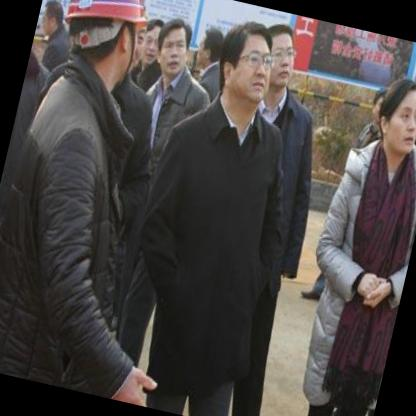head: (212, 18, 283, 113), (371, 72, 416, 162), (255, 23, 305, 102), (149, 10, 196, 82), (190, 21, 230, 76), (33, 0, 71, 47), (138, 13, 168, 68), (407, 73, 416, 144)
helmet: (52, 0, 154, 87)
